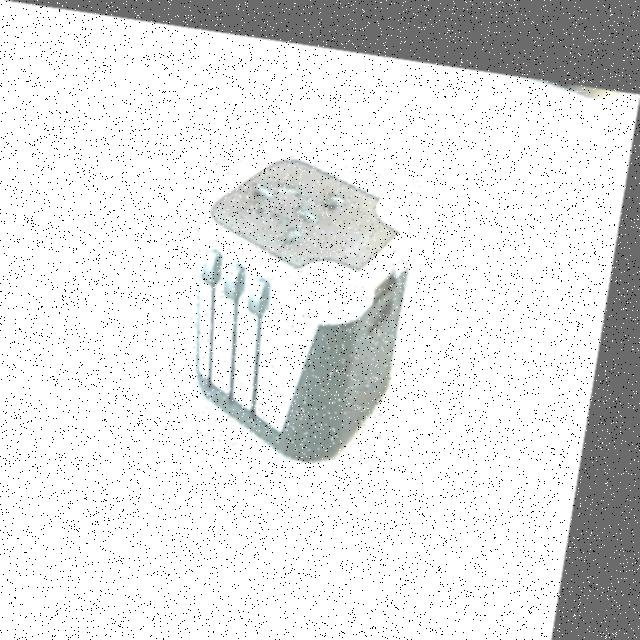adapter: (176, 131, 429, 459)
